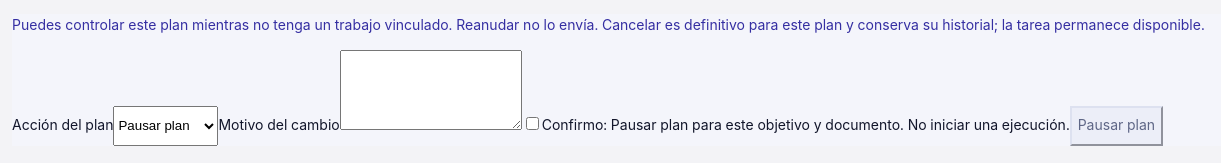
Test: clears confirmation when the selected action changes
This screenshot has width=1221, height=163.
In the text box labelled "Motivo del cambio": (431, 90) [340,50,522,130], type "Necesitamos revisar el objetivo primero"
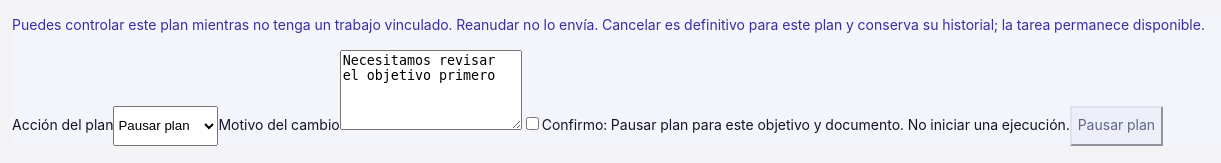
Click the checkbox: (532, 124) [526,117,539,130]
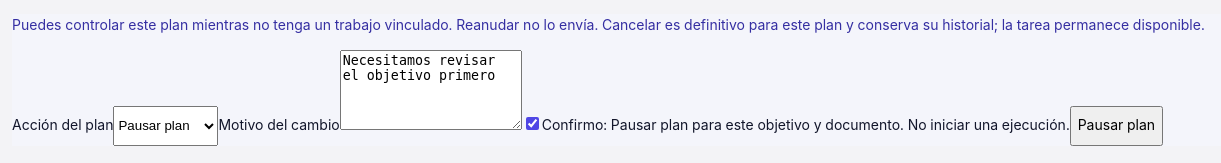
Select "Cancelar plan" in the dropdown labelled "Acción del plan": (166, 126) [114,106,218,146]
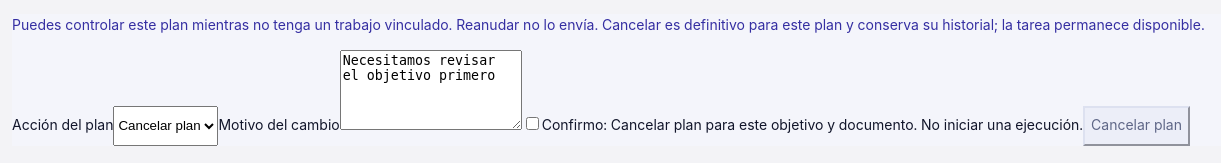
Expected: the text "Cancelar es definitivo" is shown, [12,16,1205,33]
Result: the checkbox is not checked at [526,117,539,130]
Result: the button "Cancelar plan" is disabled at [1083,106,1190,146]
